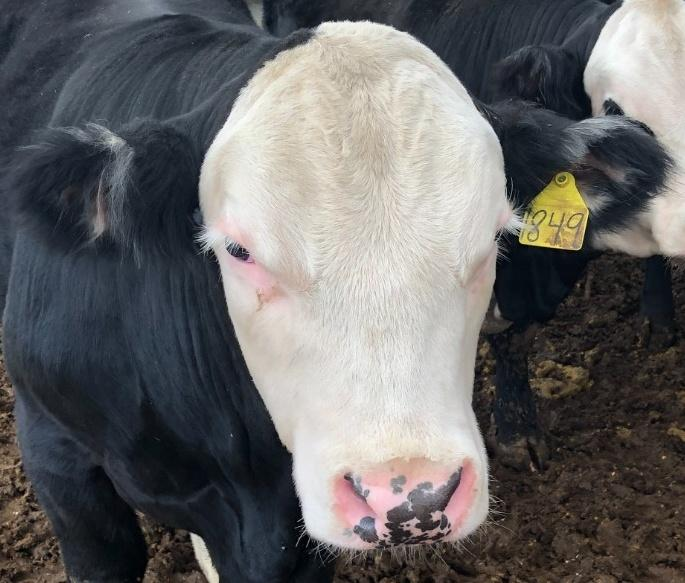muzzles: (288, 452, 502, 559)
